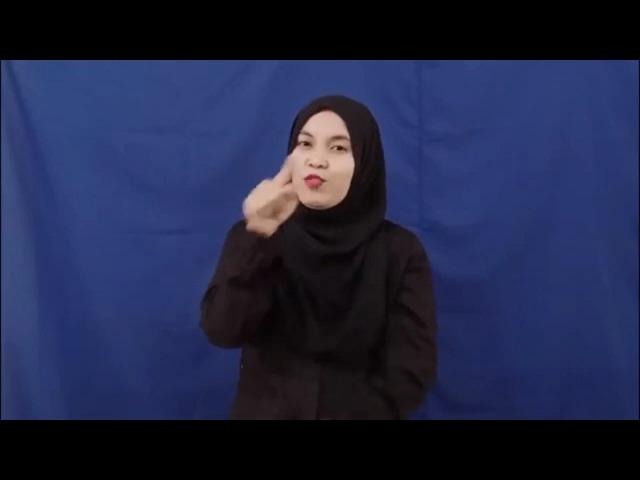Z: (238, 148, 304, 244)
